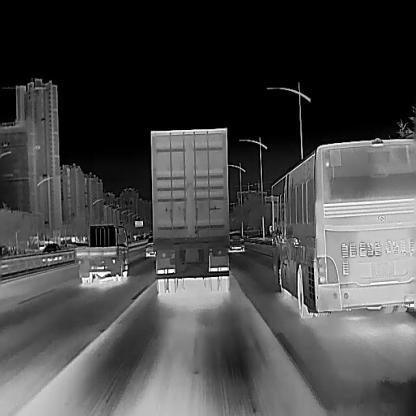car: (264, 137, 415, 318), (150, 127, 230, 293), (74, 221, 129, 282), (40, 241, 61, 262), (226, 230, 245, 253), (144, 236, 156, 257)
